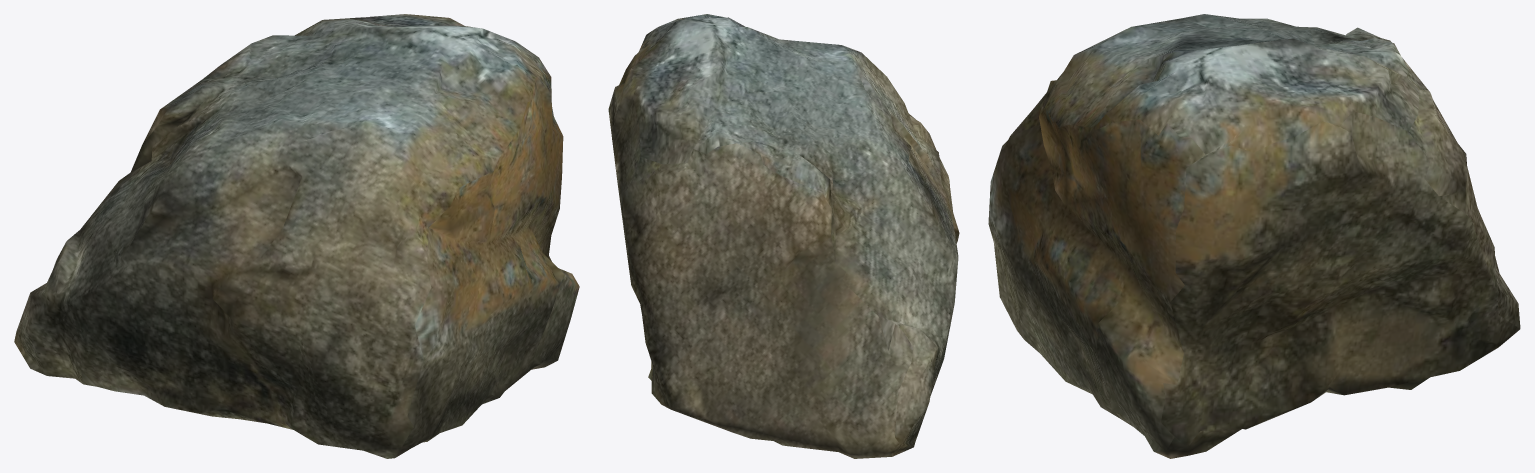
Rendered from namaqualand_boulder_04_lod1.glb.
The picture shows the model from 3 angles, left to right: view 1: azimuth 30°, elevation 25°; view 2: azimuth 150°, elevation 25°; view 3: azimuth 270°, elevation 25°; orthographic projection. The views are drawn at different scales.
Visible parts, largest first — view 1: boulder_04; view 2: boulder_04; view 3: boulder_04.
Boxes of the visible parts, bbox=[...] form: boulder_04: bbox=[14, 14, 579, 458]; boulder_04: bbox=[608, 14, 959, 458]; boulder_04: bbox=[988, 14, 1520, 458].
Bounding box in the file's own units: 2.52 × 1.9 × 2.49.
Materials: 1 (1 with a texture image).
